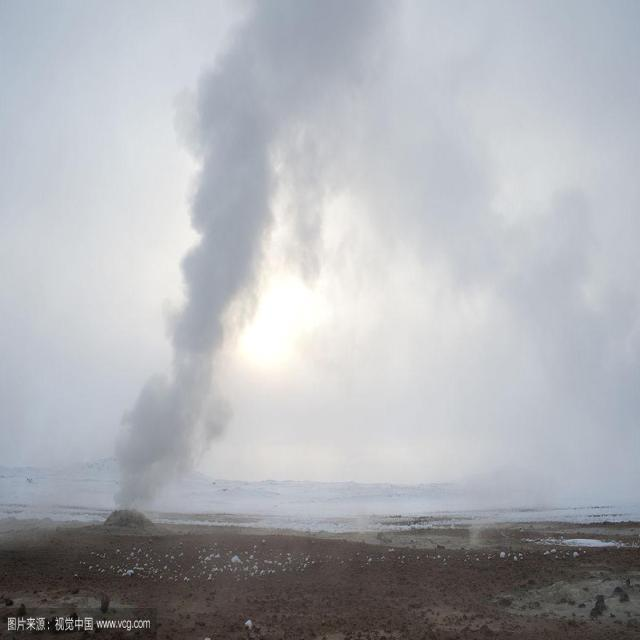Smoke: (112, 0, 388, 506)
